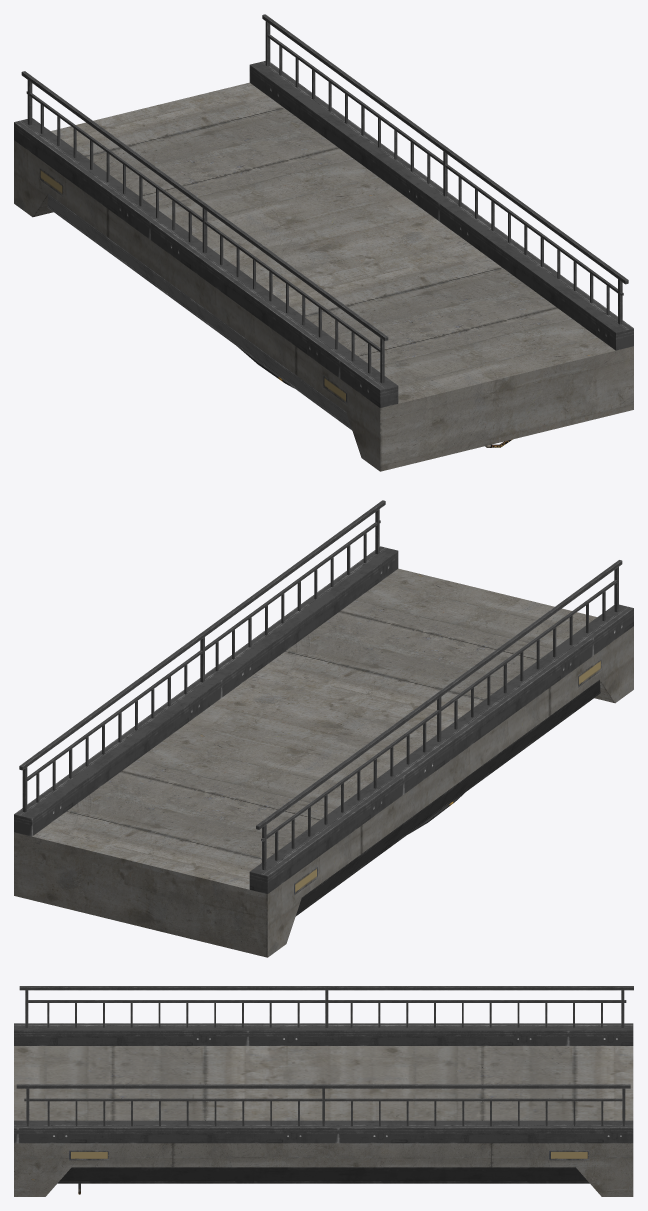
The model's file is CP_Skybridge_10m.fbx.
3 views of the same model, one above another, from view 1: azimuth 30°, elevation 25°; view 2: azimuth 150°, elevation 25°; view 3: azimuth 270°, elevation 25° (orthographic). The views are drawn at different scales.
Parts seen in each view (by area): view 1: CP_Skybridge_10m_LOD0; view 2: CP_Skybridge_10m_LOD0; view 3: CP_Skybridge_10m_LOD0.
Boxes of the visible parts, <box> form: CP_Skybridge_10m_LOD0: <box>14,14,633,471</box>; CP_Skybridge_10m_LOD0: <box>14,500,633,957</box>; CP_Skybridge_10m_LOD0: <box>14,986,633,1196</box>.
Size of what is drawn, in the model's own units: 401 by 260 by 1001.
